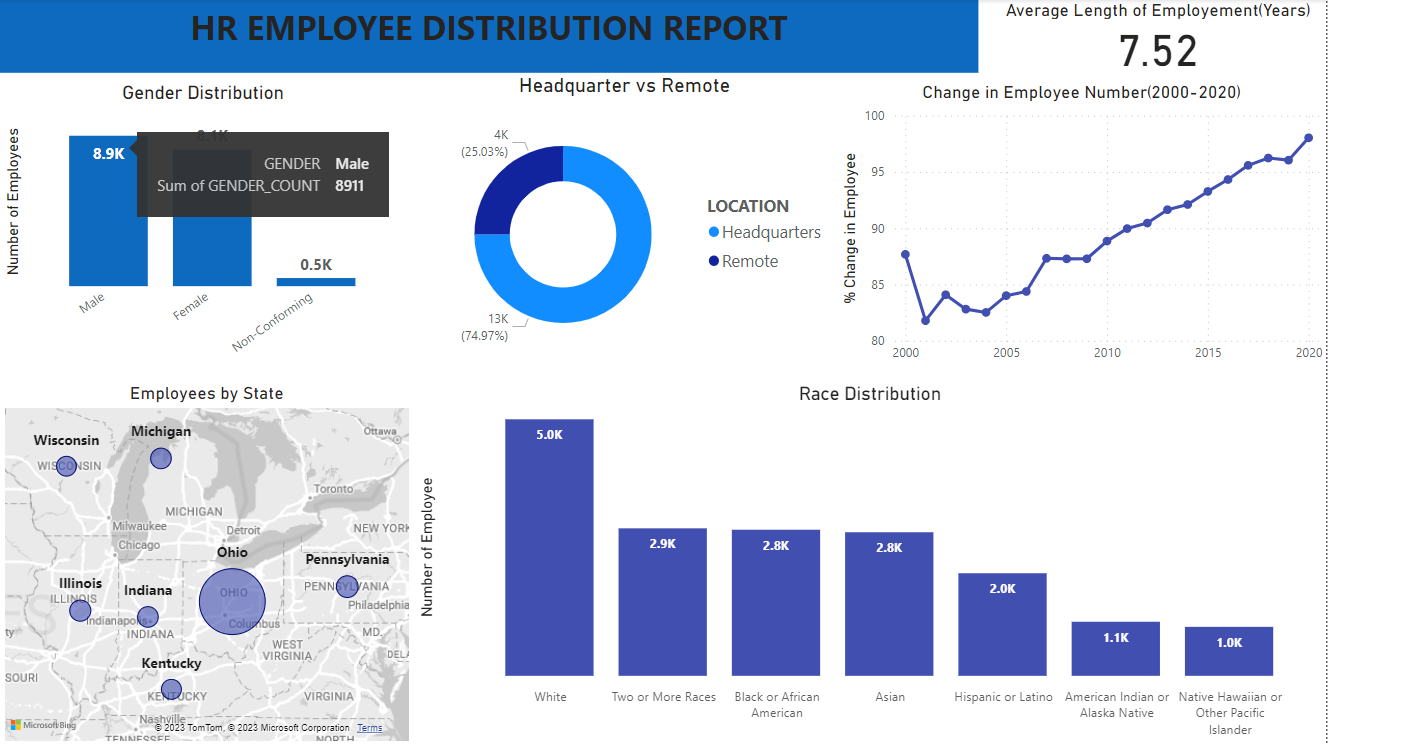

The page's visual inventory and layout, read from the dashboard file:
{"tool":"powerbi","page":{"name":"Page 1","canvas":[1280,720],"ordinal":0},"visuals":[{"type":"textbox","box":[0,0,944.1,71.4],"z":1},{"type":"card","title":"Average Length of Employement(Years)","fields":{"Values":["Sum(Avg_length_of_employement.round(avg(datediff(TERMDATE,HIRE_DATE)/365),2))"]},"box":[953.7,0,326.6,71.4],"z":2},{"type":"columnChart","title":"Gender Distribution","fields":{"Category":["GENDER.GENDER"],"Y":["Sum(GENDER.GENDER_COUNT)"]},"box":[0,79.6,392,279.8],"z":3},{"type":"donutChart","title":"Headquarter vs Remote","fields":{"Category":["Location.LOCATION"],"Y":["Sum(Location.COUNT)"]},"box":[399.2,72.4,407,288.2],"z":4},{"type":"lineChart","title":"Change in Employee Number(2000-2020)","fields":{"Category":["Emp_count_based_on_dates.year"],"Y":["Sum(Emp_count_based_on_dates.net_percent_changed)"]},"box":[806.9,79.6,473.4,279.9],"z":5},{"type":"map","title":"Employees by State","fields":{"Category":["state.LOCATION_STATE"],"Size":["Sum(state.COUNT)"]},"box":[0,370.3,399.2,349.7],"z":6},{"type":"columnChart","title":"Race Distribution","fields":{"Category":["RACE.RACE"],"Y":["Sum(RACE.RACE_COUNT)"]},"box":[399.2,370.3,880.4,349.7],"z":7}]}

Visuals, with their boxes on the page's 1280x720 design canvas (x1, y1, x2, y2). These are canvas units, not pixel positions in the 1415x745 screenshot, which may show the page scaled, cropped or inside an application window:
textbox: pyautogui.locateOnScreen(0, 0, 944, 71)
"Average Length of Employement(Years)" card: pyautogui.locateOnScreen(954, 0, 1280, 71)
"Gender Distribution" columnChart: pyautogui.locateOnScreen(0, 80, 392, 359)
"Headquarter vs Remote" donutChart: pyautogui.locateOnScreen(399, 72, 806, 361)
"Change in Employee Number(2000-2020)" lineChart: pyautogui.locateOnScreen(807, 80, 1280, 360)
"Employees by State" map: pyautogui.locateOnScreen(0, 370, 399, 720)
"Race Distribution" columnChart: pyautogui.locateOnScreen(399, 370, 1280, 720)
